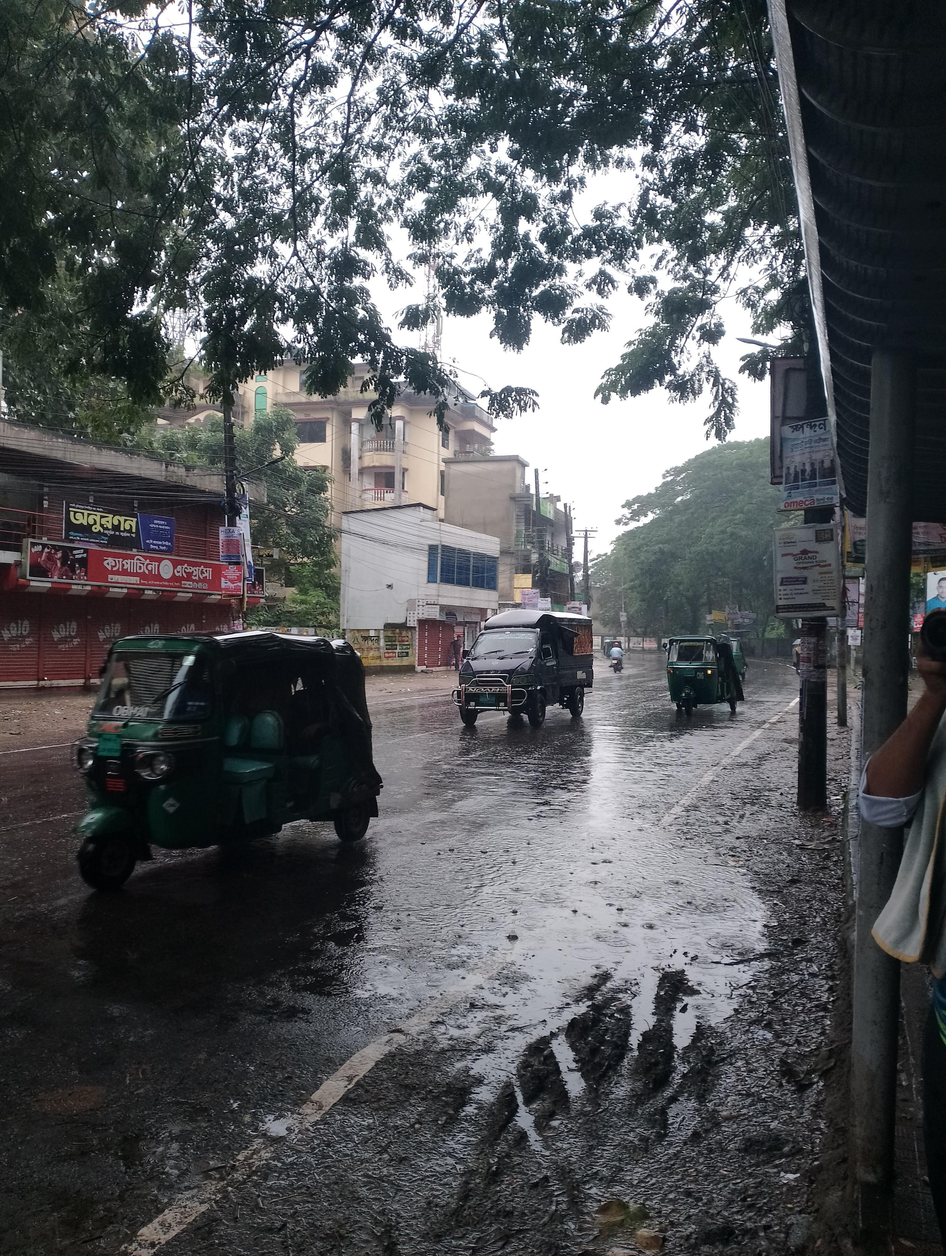Car: (442, 586, 608, 747)
